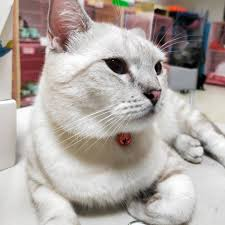cat: (40, 1, 185, 136)
